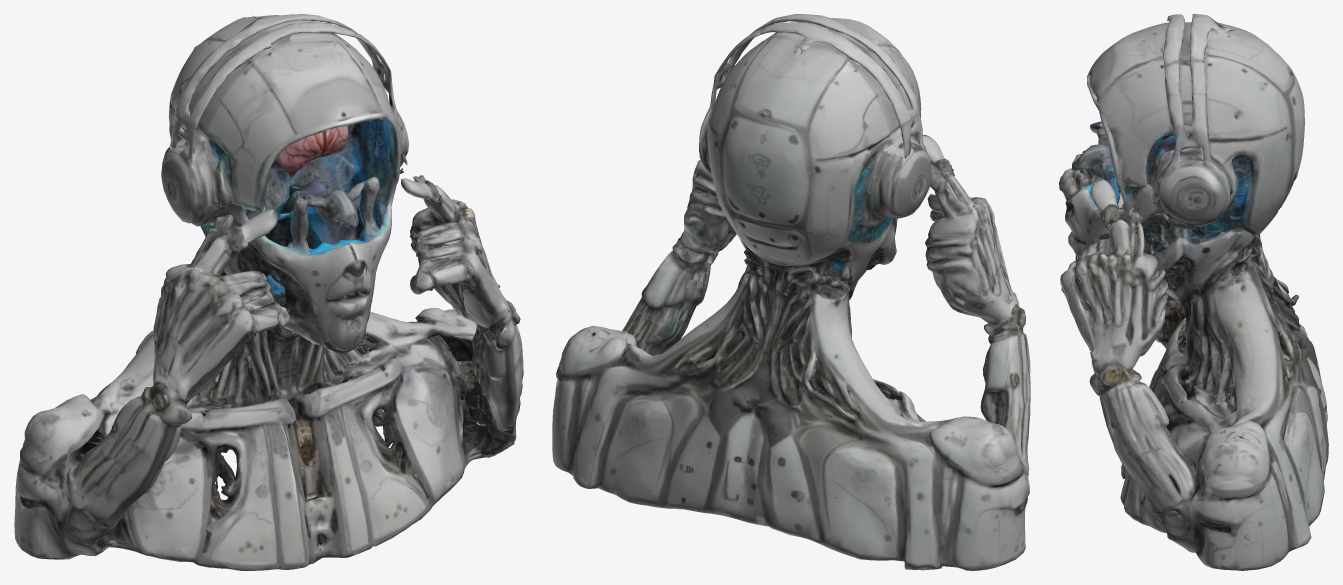
3 renders of one model, left to right at view 1: azimuth 30°, elevation 25°; view 2: azimuth 150°, elevation 25°; view 3: azimuth 270°, elevation 25°, orthographic. The views are drawn at different scales.
Size of the model in its own units: 1.98 by 2 by 1.05.
Materials: 1 (1 with a texture image).
